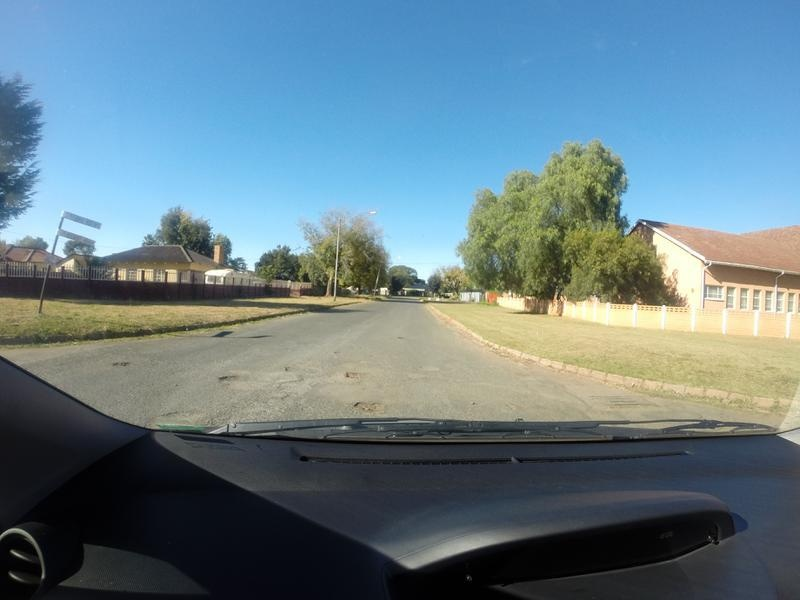pothole: (150, 402, 202, 424), (340, 391, 383, 413), (326, 368, 365, 387), (205, 368, 242, 387), (99, 357, 132, 371)
